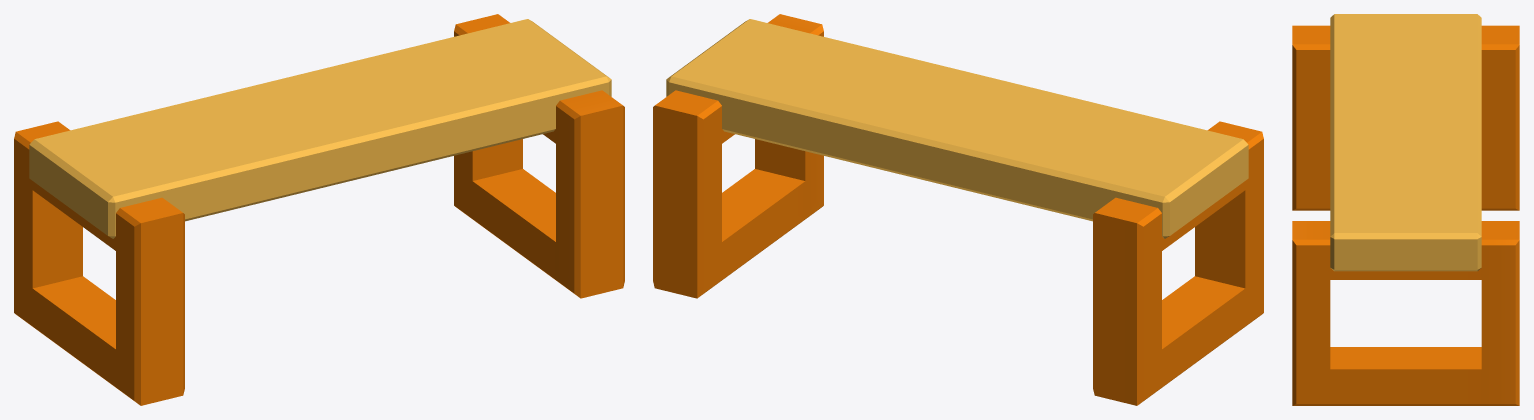
File: SM_City_Bench3.fbx
3 views of the same model, side by side, from view 1: azimuth 30°, elevation 25°; view 2: azimuth 150°, elevation 25°; view 3: azimuth 270°, elevation 25° (orthographic). The views are drawn at different scales.
Visible parts, largest first — view 1: SM_City_Bench3; view 2: SM_City_Bench3; view 3: SM_City_Bench3.
Part boxes in pixels (left/top/right/bottom): SM_City_Bench3: left=14, top=14, right=624, bottom=405; SM_City_Bench3: left=653, top=14, right=1263, bottom=405; SM_City_Bench3: left=1292, top=14, right=1519, bottom=405.
Bounding box in the file's own units: 159 × 58.39 × 68.49.
